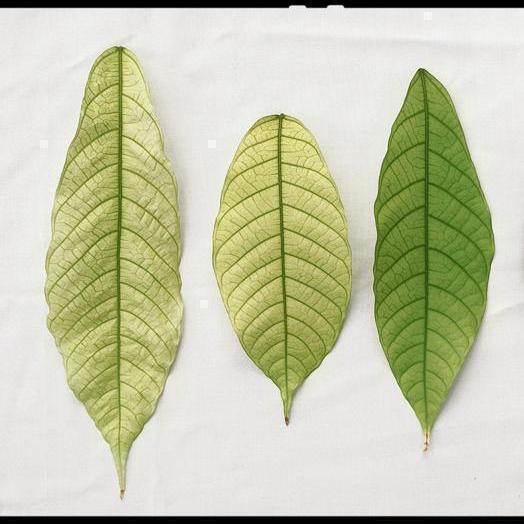Iron: (45, 47, 182, 496), (373, 68, 494, 448), (213, 114, 351, 424)
